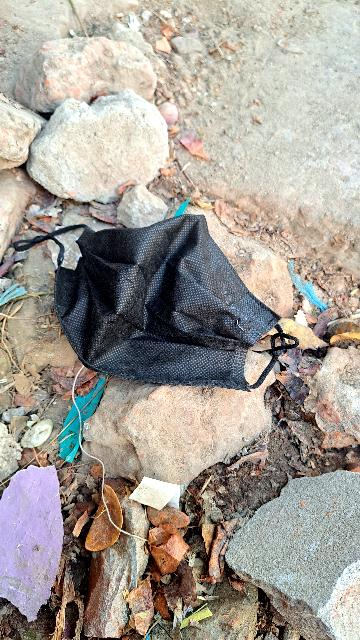mask: (67, 172, 290, 400)
